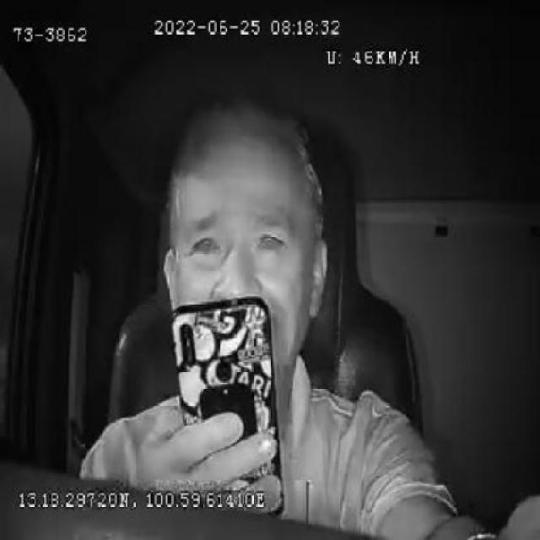phone: (169, 297, 285, 494)
